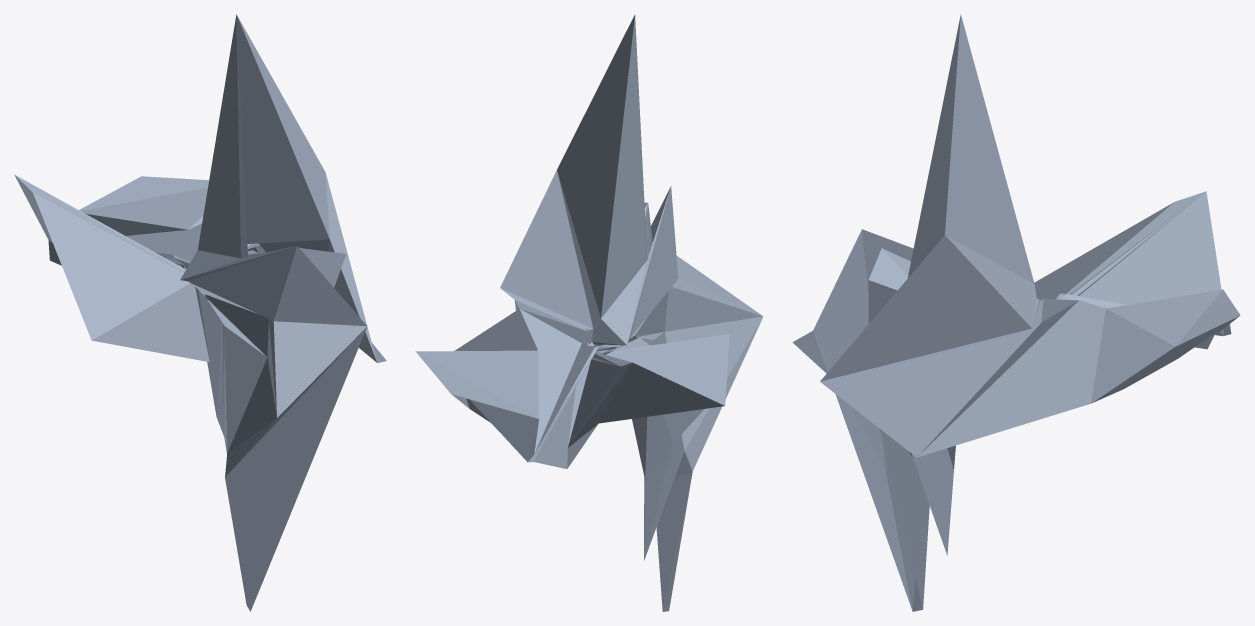
Rendered from reconstruction.obj.
The picture shows the model from 3 angles, left to right: view 1: azimuth 30°, elevation 25°; view 2: azimuth 150°, elevation 25°; view 3: azimuth 270°, elevation 25°; orthographic projection. The views are drawn at different scales.
Bounding box in the file's own units: 0.6548 × 1.48 × 1.
